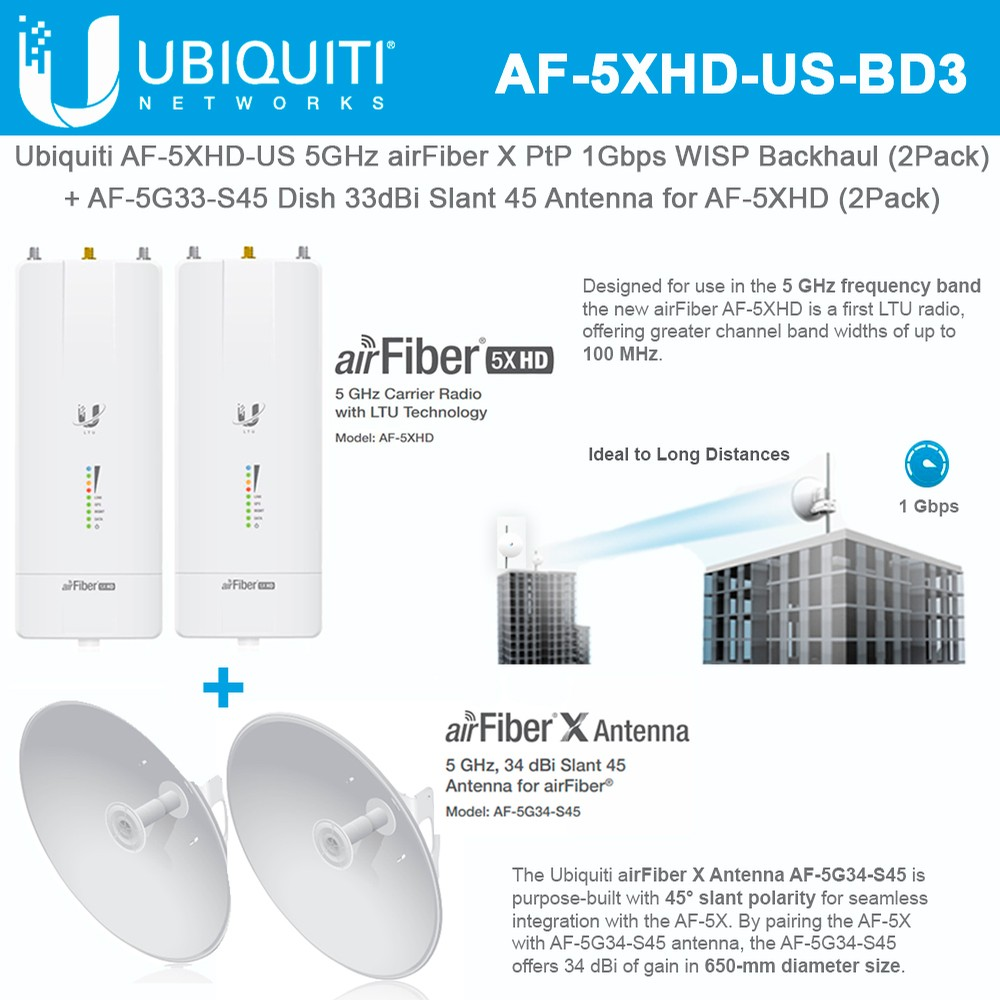ba: (33, 674, 243, 975)
